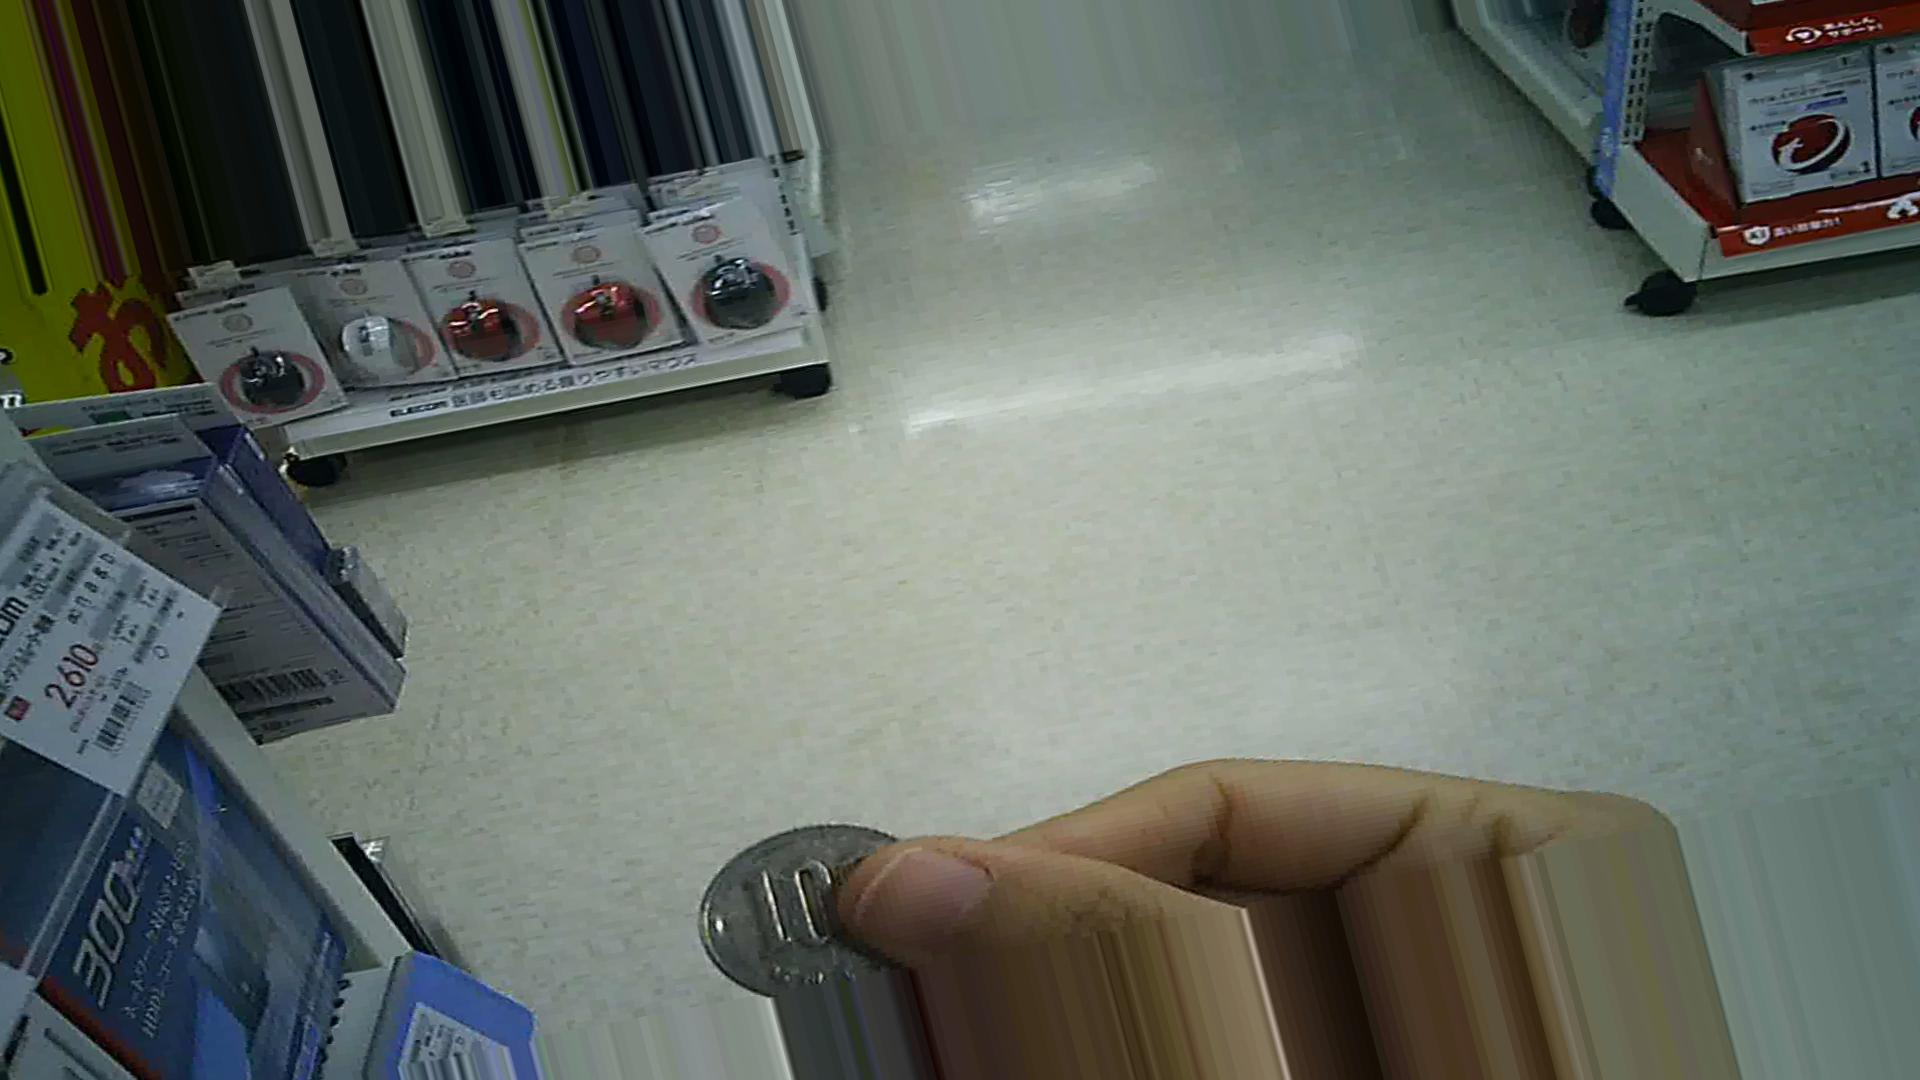100 Yen: (698, 822, 960, 997)
